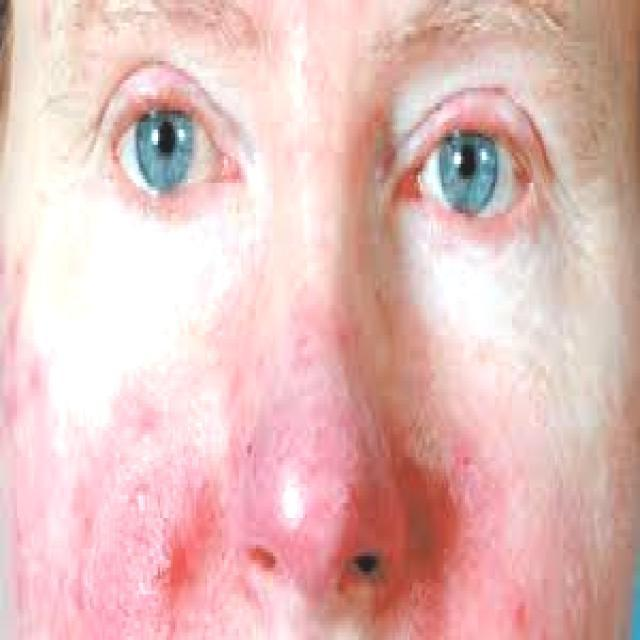Rosacea: (0, 334, 222, 639), (226, 316, 408, 604), (380, 409, 578, 640)
